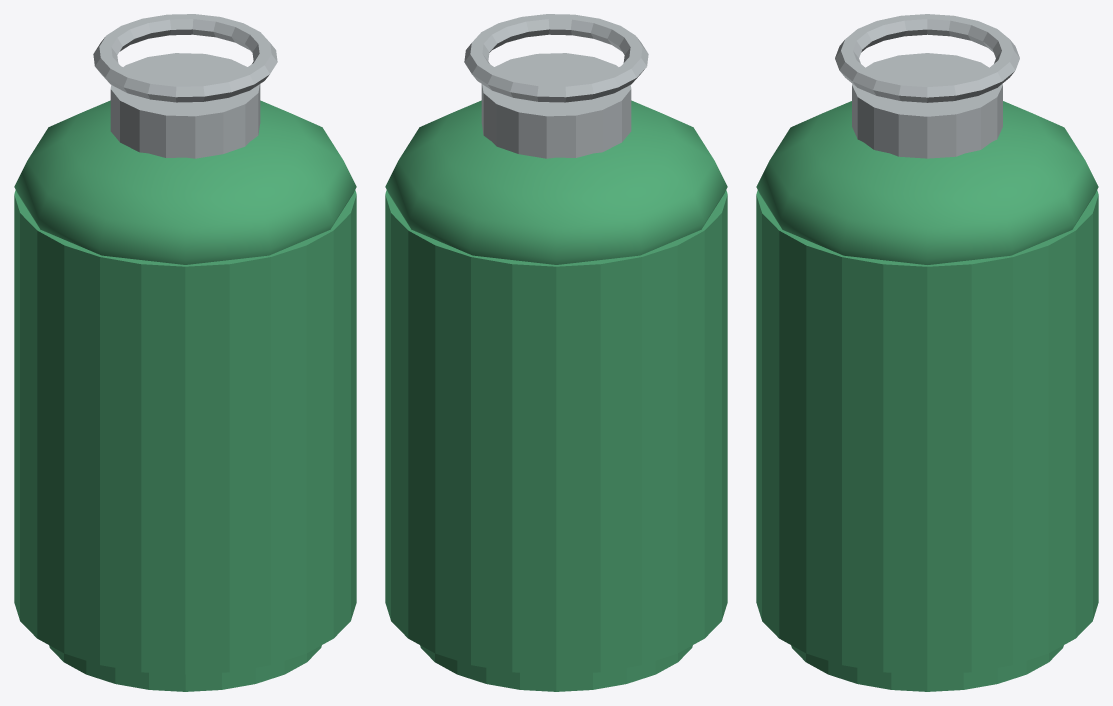
The model's file is gas_cylinder_12kg_green.glb.
3 views of the same model, side by side, from view 1: azimuth 30°, elevation 25°; view 2: azimuth 150°, elevation 25°; view 3: azimuth 270°, elevation 25° (orthographic).
Visible parts, largest first — view 1: gas bottle, cylinder shoulder, cylinder neck, guard hoop, foot ring; view 2: gas bottle, cylinder shoulder, cylinder neck, guard hoop, foot ring; view 3: gas bottle, cylinder shoulder, cylinder neck, guard hoop, foot ring.
Part boxes in pixels (box(x1,y1,x2,y2)): gas bottle: box(14, 190, 356, 674); cylinder shoulder: box(14, 100, 356, 264); cylinder neck: box(110, 53, 260, 158); guard hoop: box(93, 14, 277, 102); foot ring: box(49, 645, 321, 691); gas bottle: box(385, 190, 727, 674); cylinder shoulder: box(385, 100, 727, 264); cylinder neck: box(481, 53, 631, 158); guard hoop: box(464, 14, 648, 102); foot ring: box(420, 645, 692, 691); gas bottle: box(756, 190, 1098, 674); cylinder shoulder: box(756, 101, 1098, 264); cylinder neck: box(852, 53, 1002, 158); guard hoop: box(835, 14, 1019, 102); foot ring: box(791, 645, 1063, 691).
Size of the model in its own units: 0.32 by 0.6003 by 0.32.
